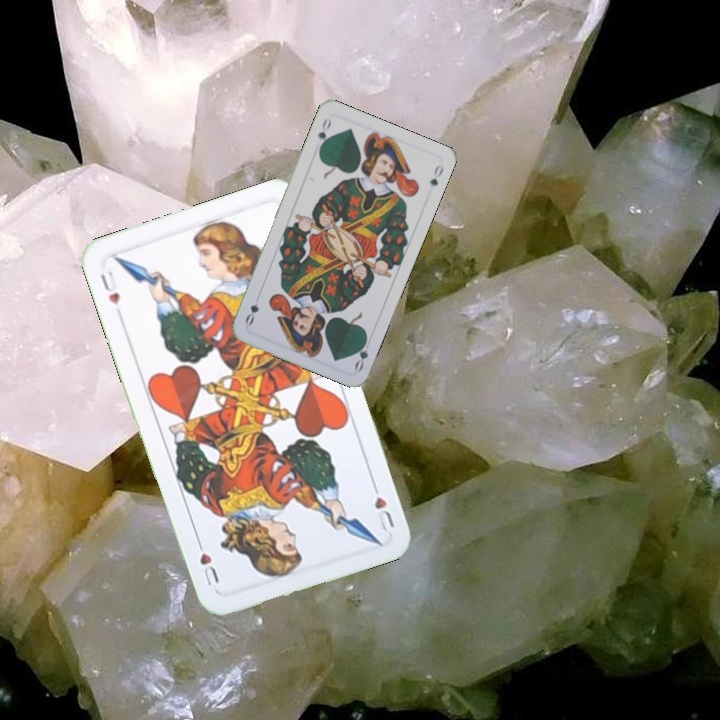GO: (350, 333, 371, 374), (313, 114, 334, 153)
HU: (368, 477, 397, 534), (96, 266, 122, 308)
